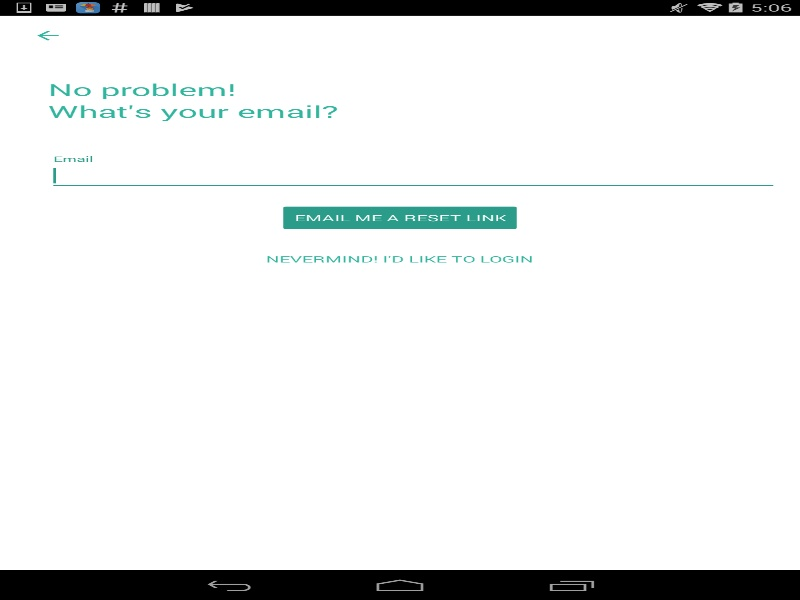Button: (250, 244, 549, 274), (278, 202, 522, 232), (10, 15, 85, 55)
Input: (48, 161, 778, 190)
